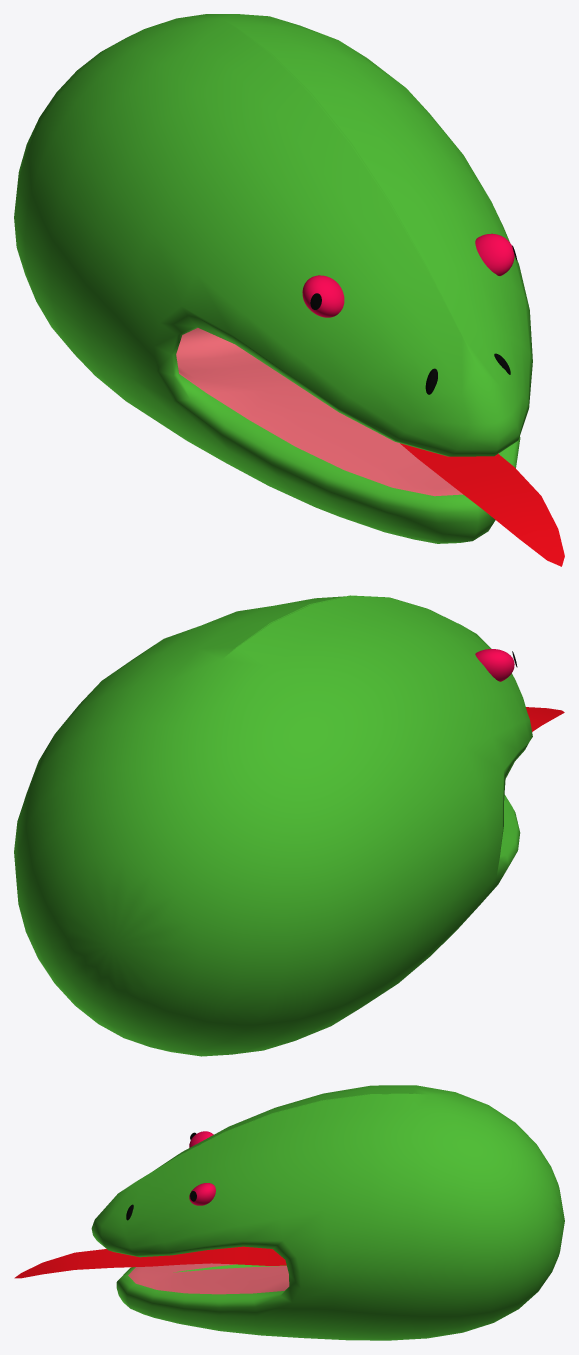
The model's file is SnakeHead.fbx.
3 views of the same model, one above another, from view 1: azimuth 30°, elevation 25°; view 2: azimuth 150°, elevation 25°; view 3: azimuth 270°, elevation 25° (orthographic). The views are drawn at different scales.
Visible parts, largest first — view 1: SnakeHead; view 2: SnakeHead; view 3: SnakeHead.
Part boxes in pixels (x1,y1,x2,y2): SnakeHead: (14, 14, 564, 566); SnakeHead: (14, 595, 564, 1056); SnakeHead: (14, 1085, 564, 1340).
Size of the model in its own units: 185 by 185 by 385.
